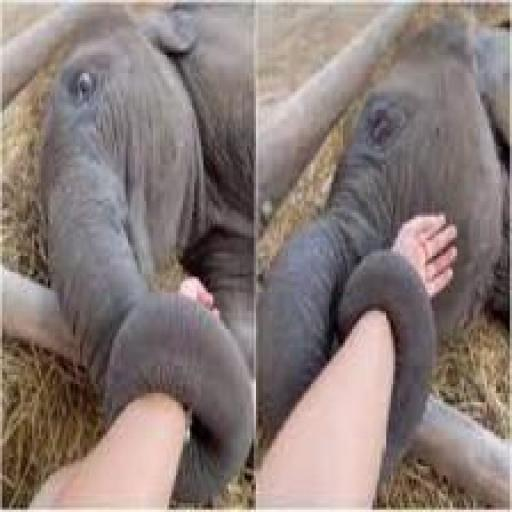Elephant: (9, 18, 255, 503), (267, 16, 511, 464)
